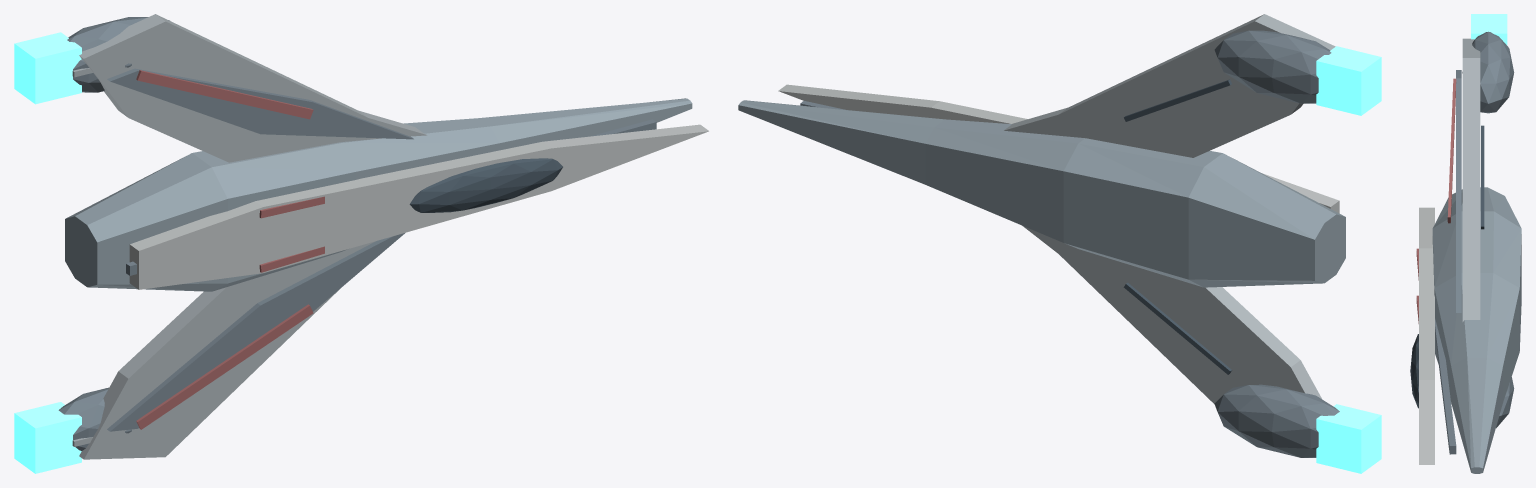
The model's file is normandy-sr2.glb.
3 renders of one model, left to right at view 1: azimuth 30°, elevation 25°; view 2: azimuth 150°, elevation 25°; view 3: azimuth 270°, elevation 25°, orthographic. The views are drawn at different scales.
Visible parts, largest first — view 1: Hull and platework, Engines and emitters; view 2: Hull and platework, Engines and emitters; view 3: Hull and platework, Engines and emitters.
Boxes of the visible parts, bbox=[...] form: Hull and platework: bbox=[58, 14, 708, 459]; Engines and emitters: bbox=[14, 32, 81, 473]; Hull and platework: bbox=[738, 14, 1345, 457]; Engines and emitters: bbox=[1316, 46, 1381, 473]; Hull and platework: bbox=[1410, 31, 1521, 473]; Engines and emitters: bbox=[1471, 14, 1507, 45].
Size of the model in its own units: 3.54 by 2.24 by 0.6.
